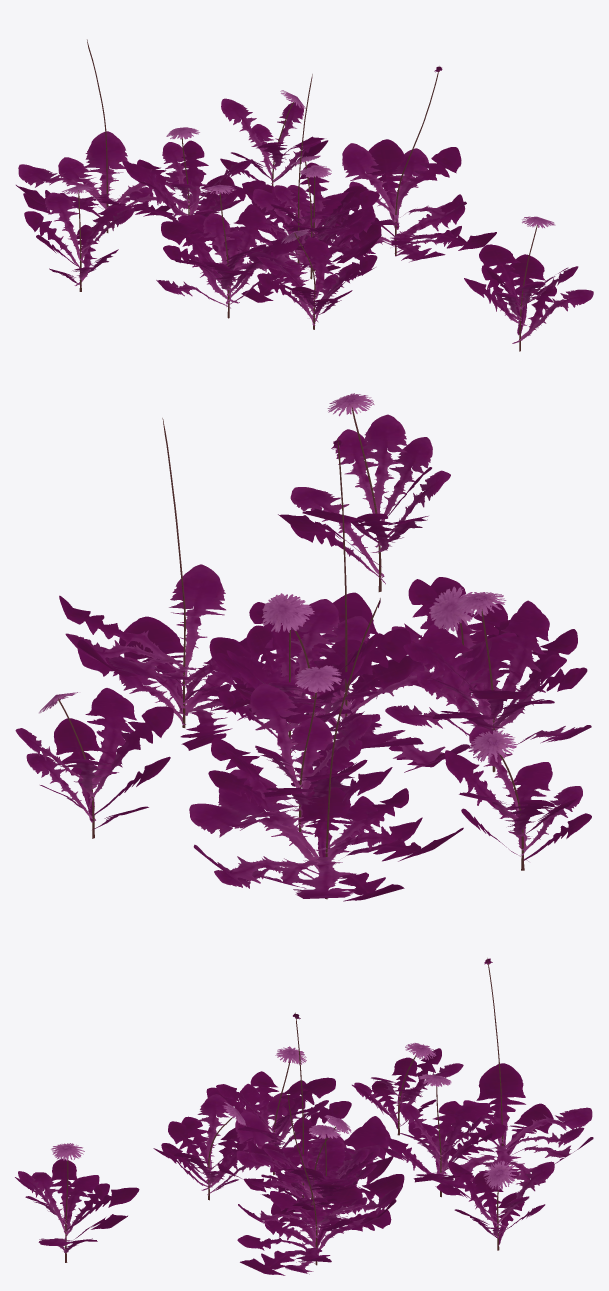
3 views of the same model, one above another, from view 1: azimuth 30°, elevation 25°; view 2: azimuth 150°, elevation 25°; view 3: azimuth 270°, elevation 25° (orthographic). The views are drawn at different scales.
Visible parts, largest first — view 1: SM_GF_Dandelion_01_LOD0; view 2: SM_GF_Dandelion_01_LOD0; view 3: SM_GF_Dandelion_01_LOD0.
Boxes of the visible parts, bbox=[...] form: SM_GF_Dandelion_01_LOD0: bbox=[16, 39, 593, 351]; SM_GF_Dandelion_01_LOD0: bbox=[15, 393, 591, 901]; SM_GF_Dandelion_01_LOD0: bbox=[15, 958, 593, 1275].
Bounding box in the file's own units: 0.7871 × 0.4565 × 1.04.
1 material, 1 textured.
